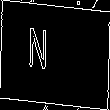N_S: (44, 28, 66, 82)
